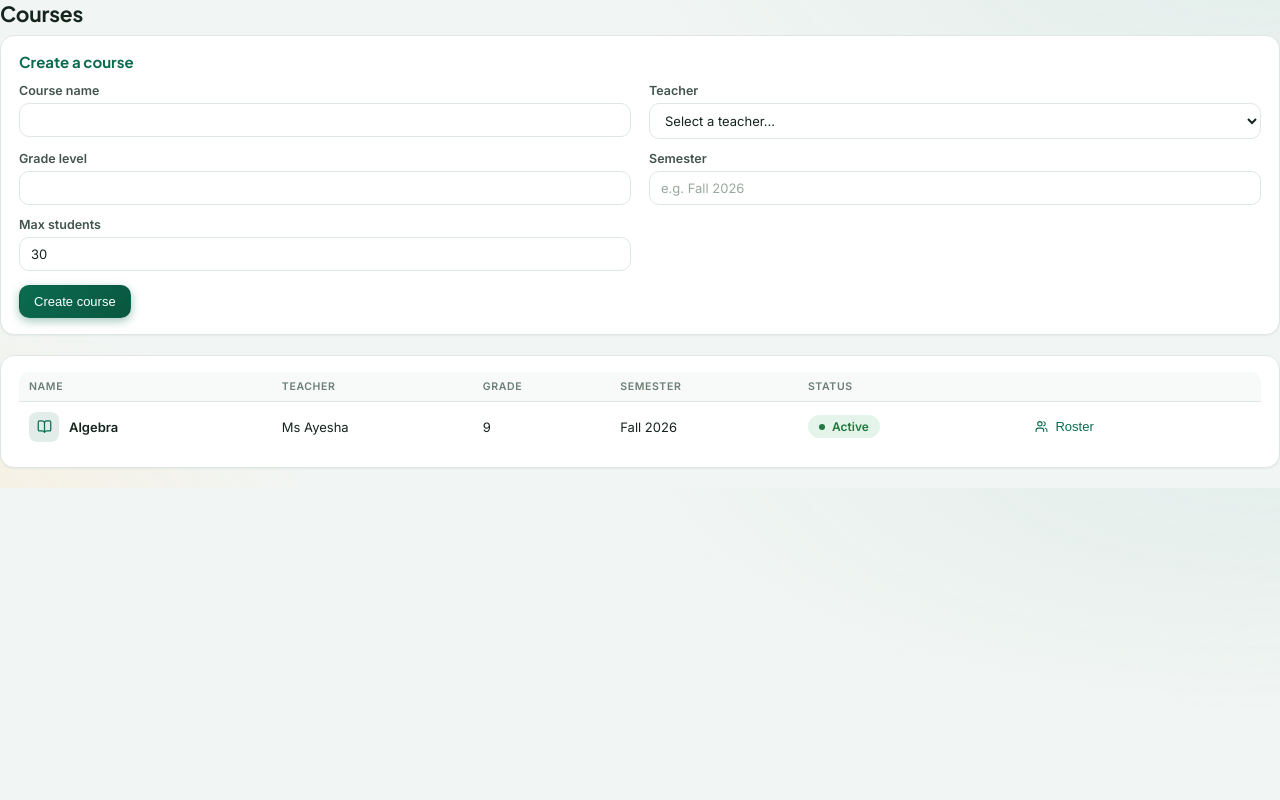
Courses page › opens the roster panel and saves the roster
The width and height of the screenshot is (1280, 800).
Check: the text "Algebra" is shown, box [29, 412, 118, 442]
Click the button "Roster" at (1065, 426), box [1020, 410, 1109, 443]
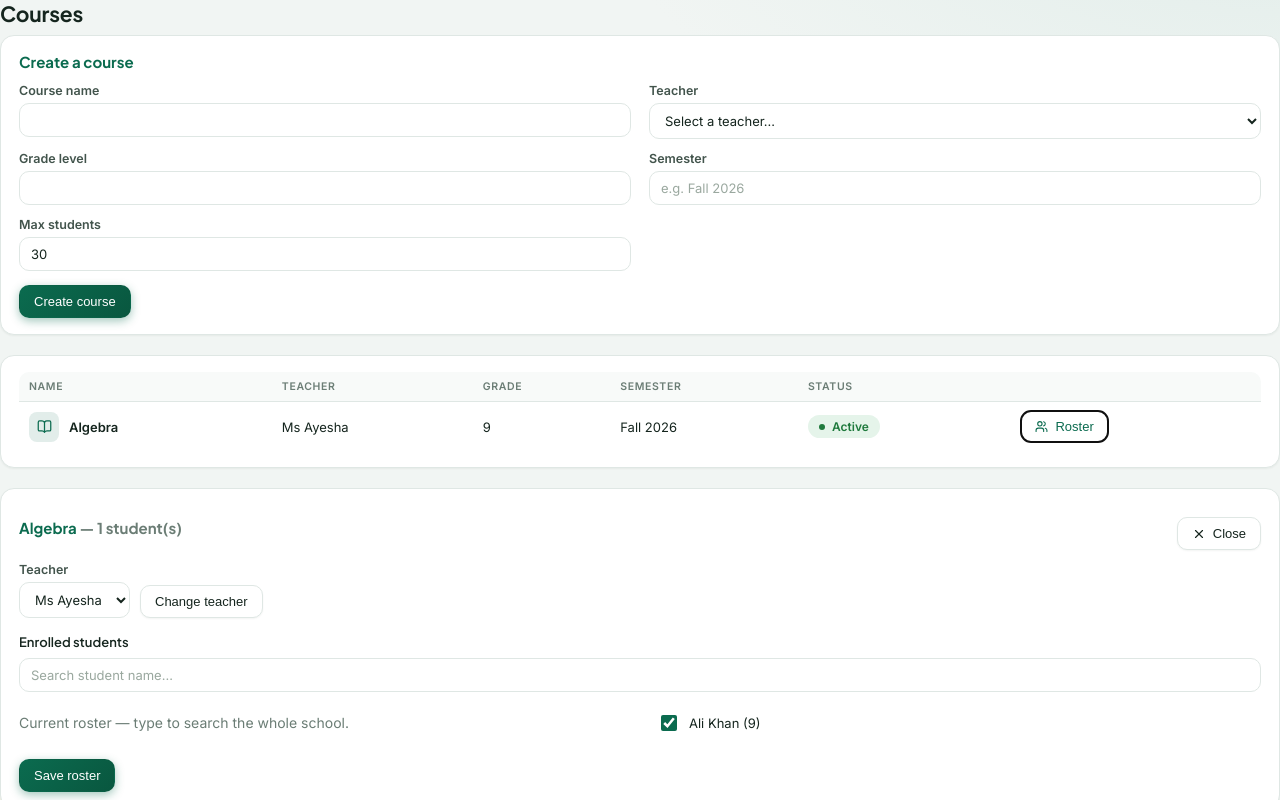
Check: the heading "Enrolled students" is shown, box [19, 634, 129, 650]
Check: the text "— 1 student(s)" is shown, box [80, 518, 182, 537]
Check: the checkbox is checked, box [661, 714, 677, 730]
Click the button "Save roster" at (67, 776), box [19, 759, 116, 792]
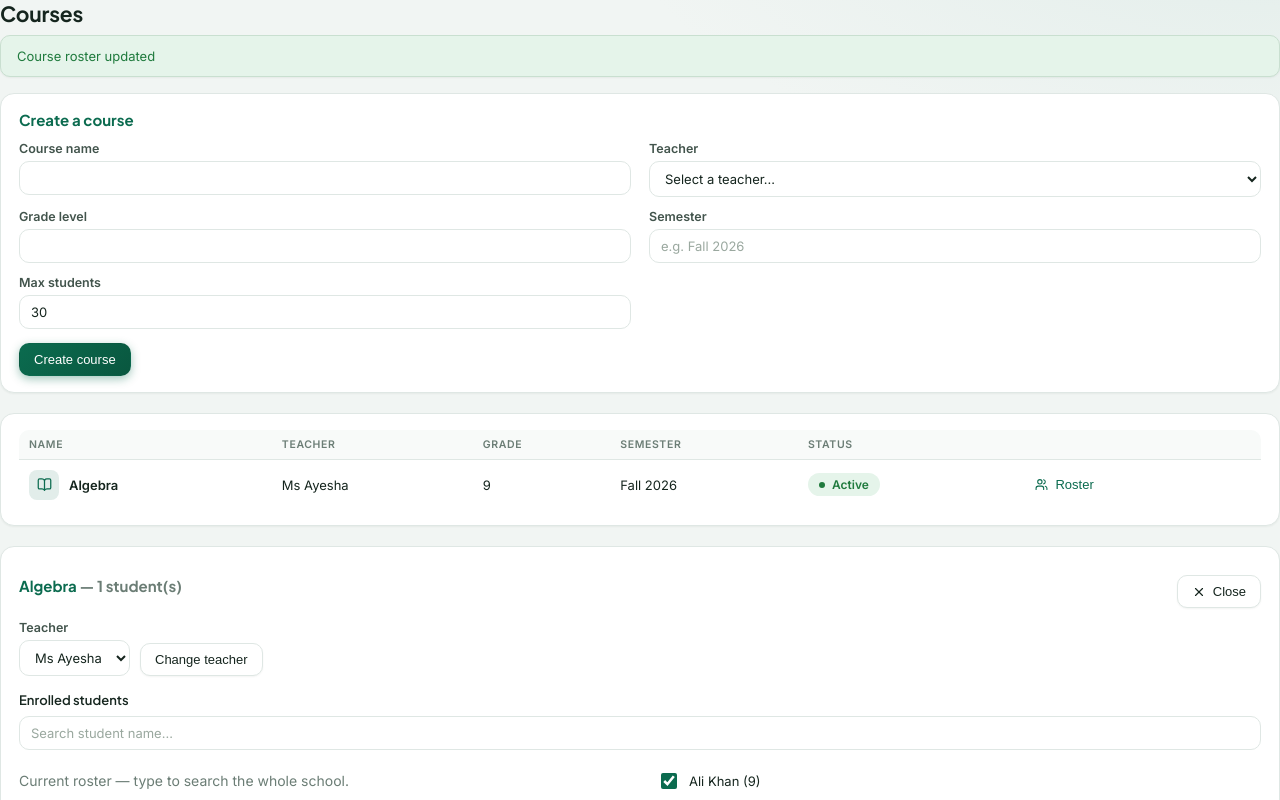
Check: the text "Course roster updated" is shown, box [0, 35, 1279, 77]
